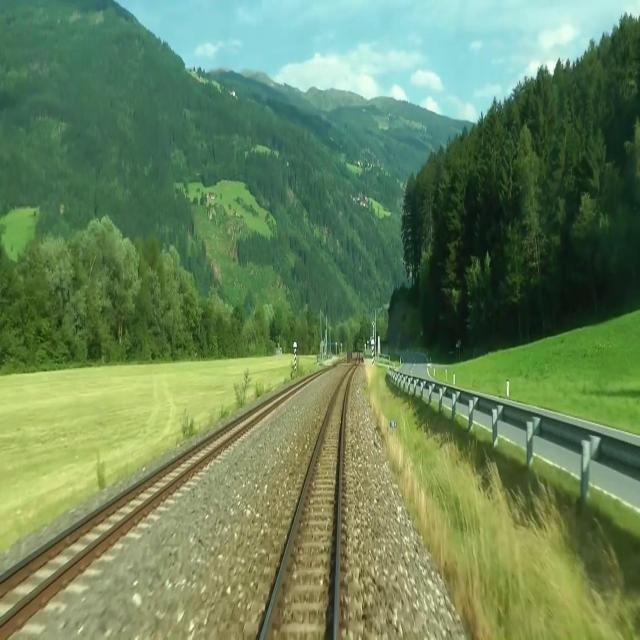rail-track: (0, 404, 268, 616), (264, 374, 349, 639)
